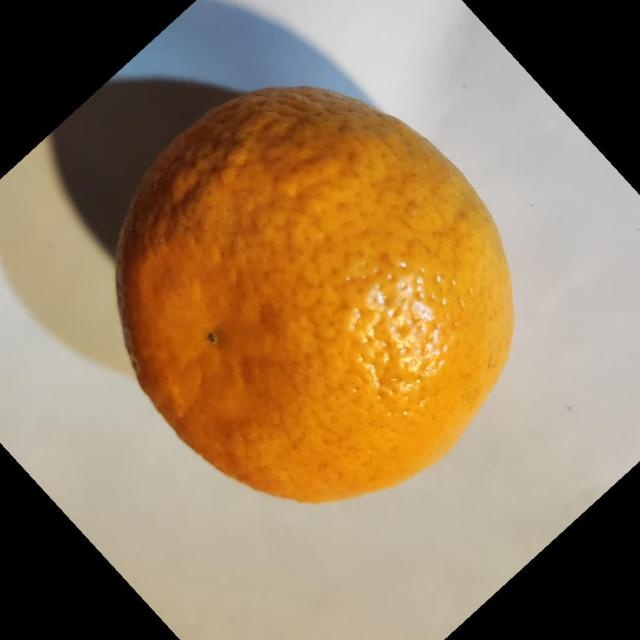agrume: (114, 84, 515, 504)
